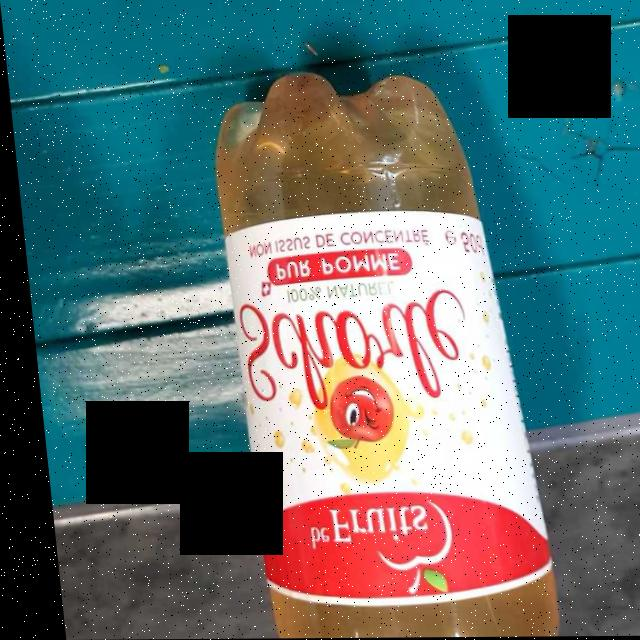juice-apple: (210, 71, 490, 231)
